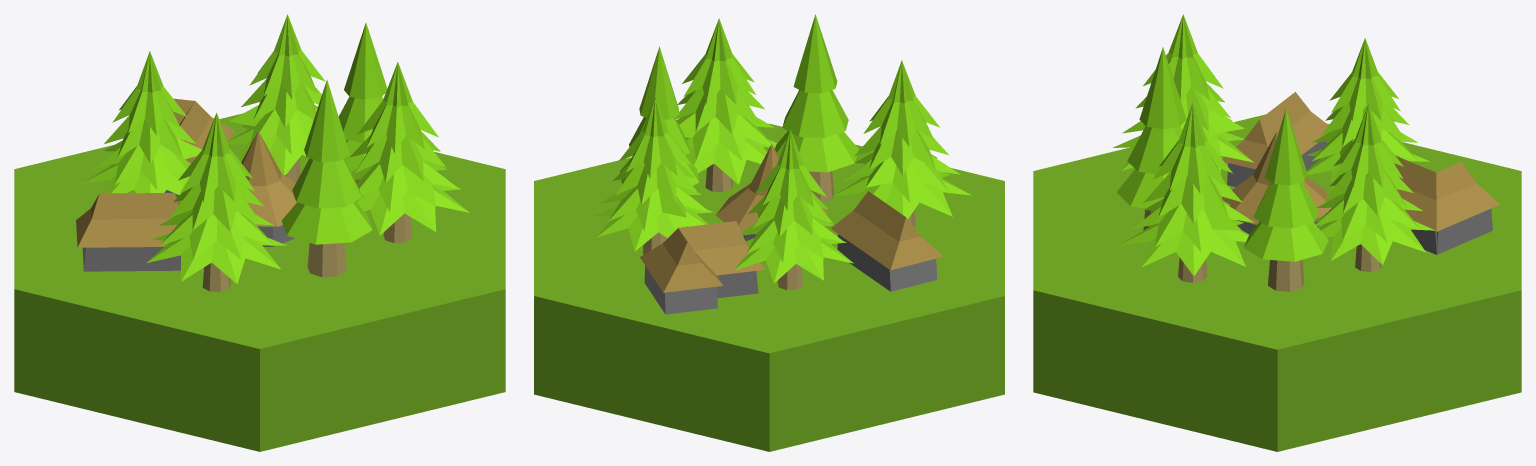
Rendered from Casas_Bosque_Pinos_3.fbx.
3 renders of one model, left to right at view 1: azimuth 30°, elevation 25°; view 2: azimuth 150°, elevation 25°; view 3: azimuth 270°, elevation 25°, orthographic. The views are drawn at different scales.
Visible parts, largest first — view 1: Casas_Bosque_Pinos_3; view 2: Casas_Bosque_Pinos_3; view 3: Casas_Bosque_Pinos_3.
Boxes of the visible parts, box(x1,y1,x2,y2) form: Casas_Bosque_Pinos_3: box(14, 14, 505, 451); Casas_Bosque_Pinos_3: box(534, 14, 1004, 451); Casas_Bosque_Pinos_3: box(1033, 14, 1521, 451).
Bounding box in the file's own units: 200 × 114 × 173.
